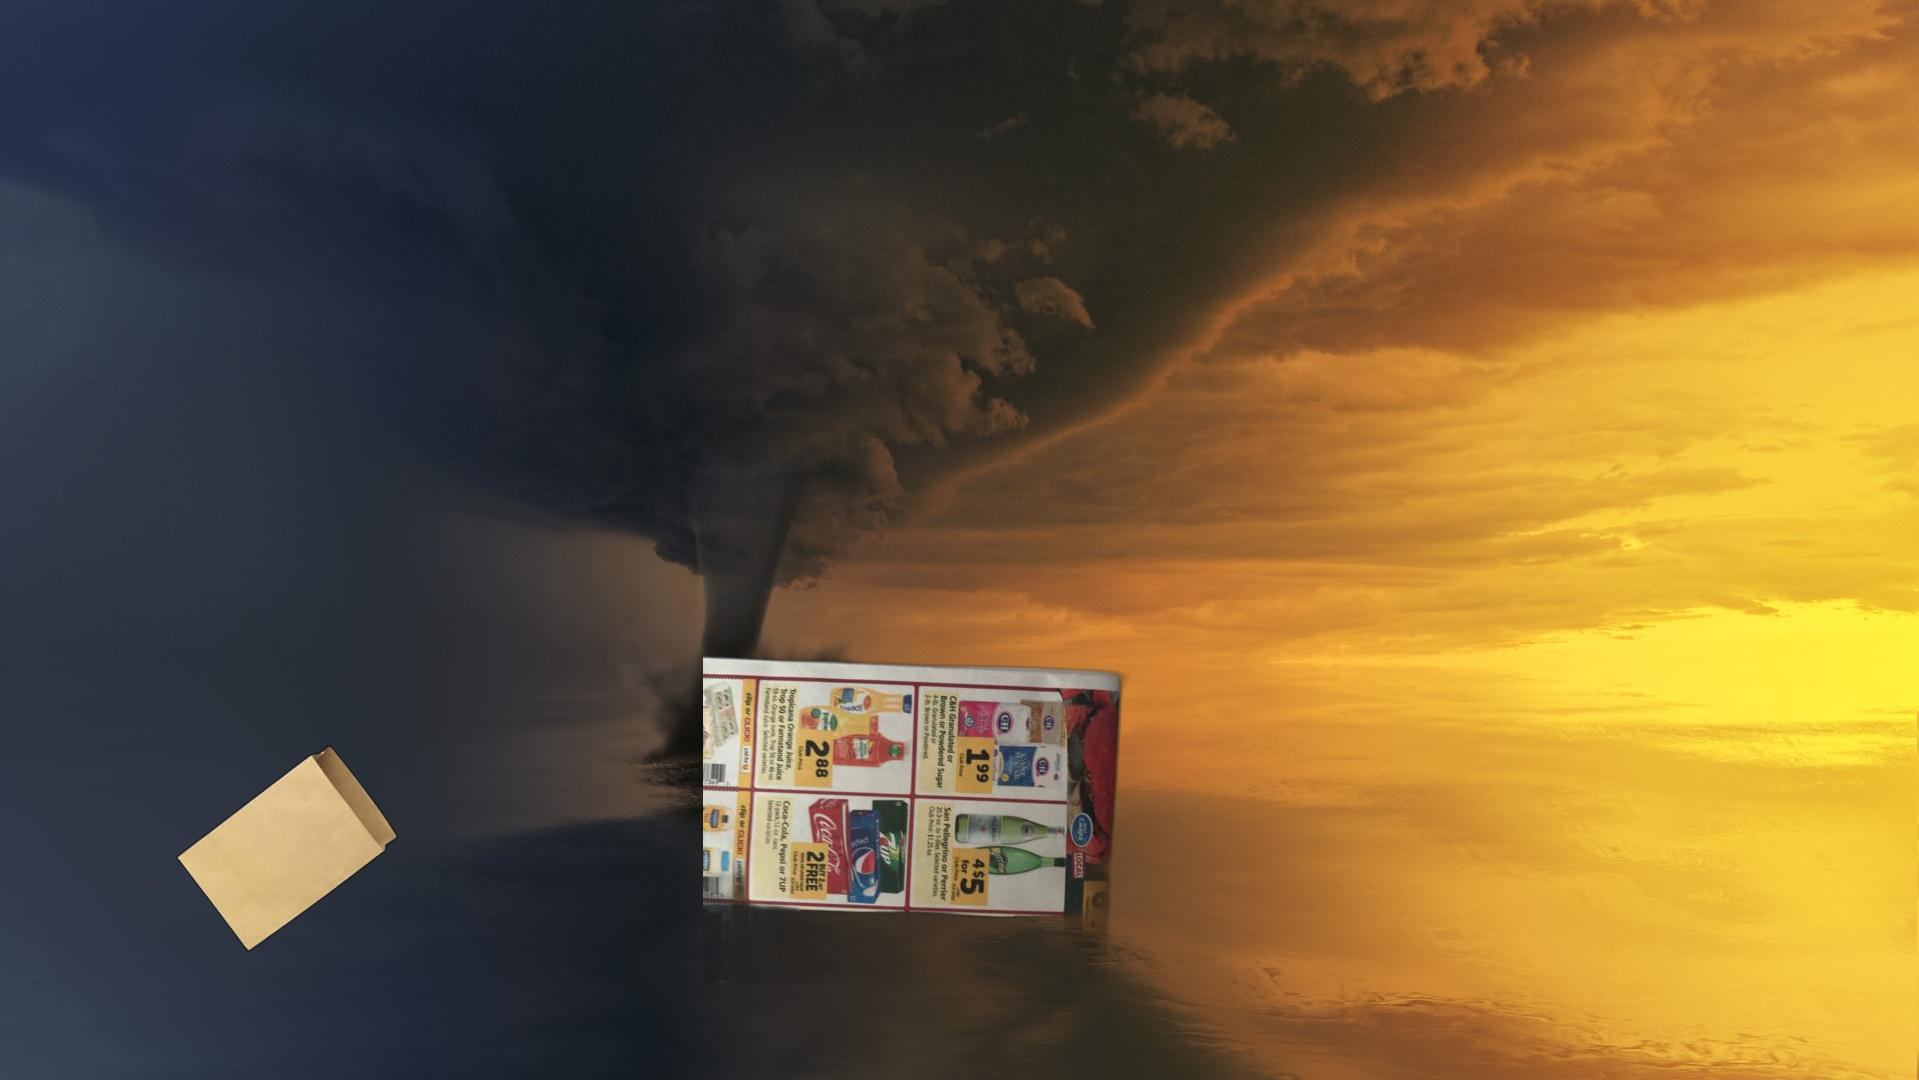paper: (702, 653, 1132, 982)
paper-bag: (175, 742, 399, 953)
